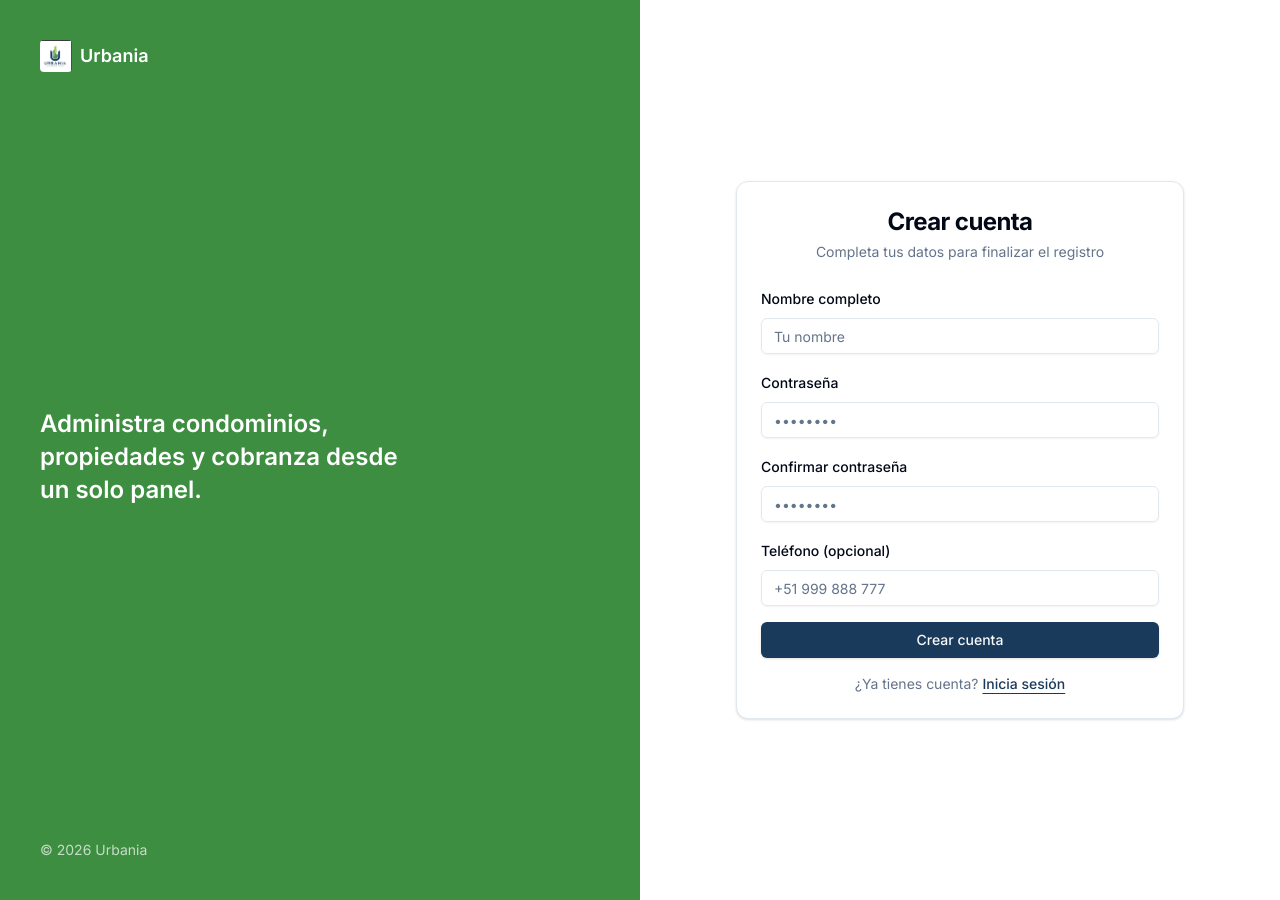
Test case: RegisterPage — validación de formulario › CA4 — validación de contraseñas › muestra errores de validación al enviar con campos vacíos
Click the button "Crear cuenta".
click(960, 640)  # box [761,622,1159,658]
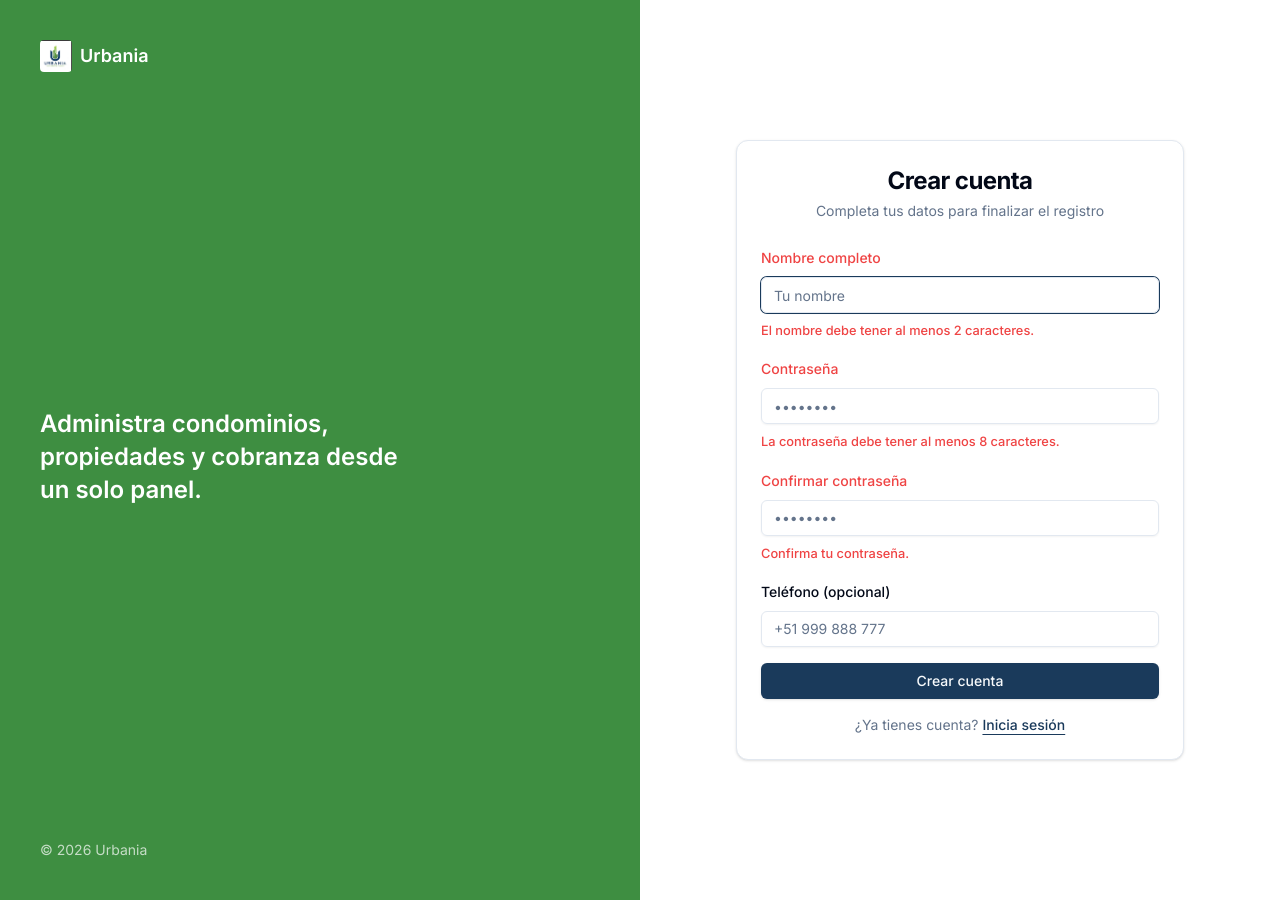
Now the text "El nombre debe tener al menos 2 caracteres." is shown, box [761,323,1034,338]
Now the text "La contraseña debe tener al menos 8 caracteres." is shown, box [761,434,1060,449]
Now the text "Confirma tu contraseña." is shown, box [761,546,909,561]
